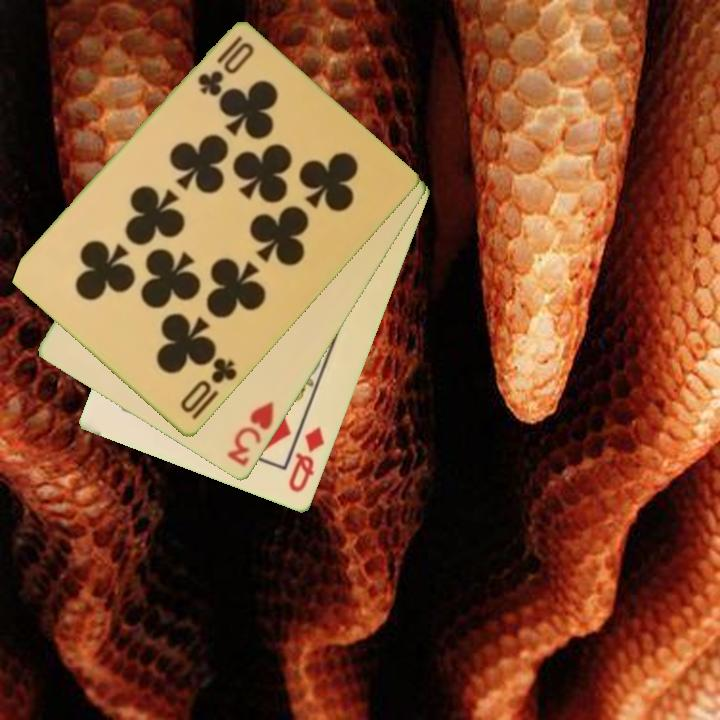10c: (194, 32, 258, 99), (176, 354, 240, 417)
3h: (223, 399, 277, 470)
Qd: (285, 423, 328, 496)
